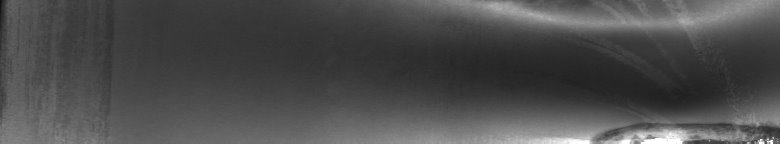ke: (424, 4, 776, 136)
